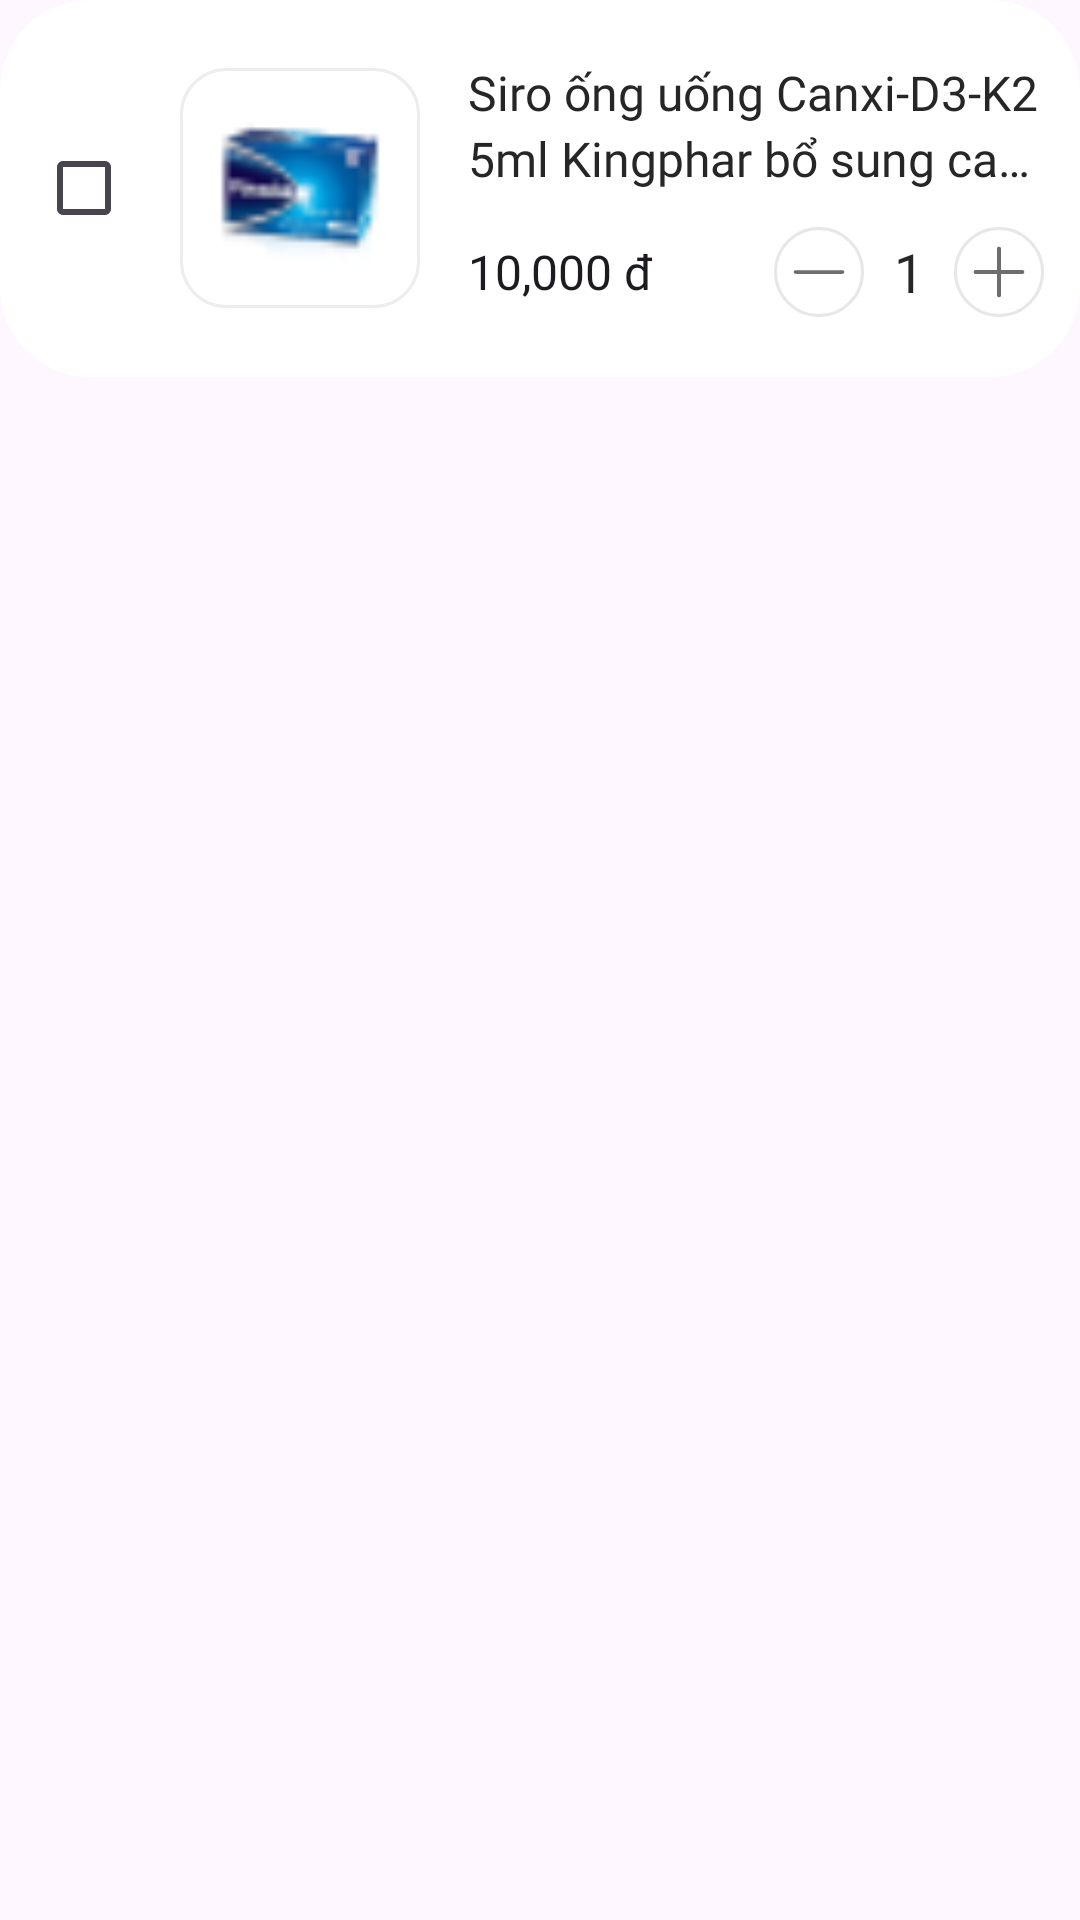

Icons on this 1080px x 1920px Android screen, each with its box as (left=x1, top=y1, right=x2, bottom=y2):
plus: (left=973, top=246, right=1025, bottom=298)
